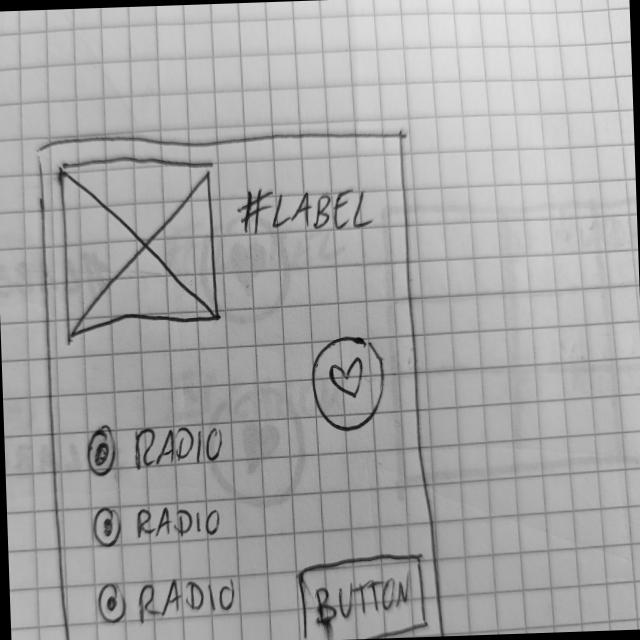button: (291, 550, 428, 640)
container: (32, 122, 450, 640)
icon-button: (306, 331, 388, 435)
image: (56, 149, 220, 340)
label: (235, 177, 376, 241)
radio: (84, 418, 226, 480), (94, 575, 238, 626), (89, 498, 225, 550)
